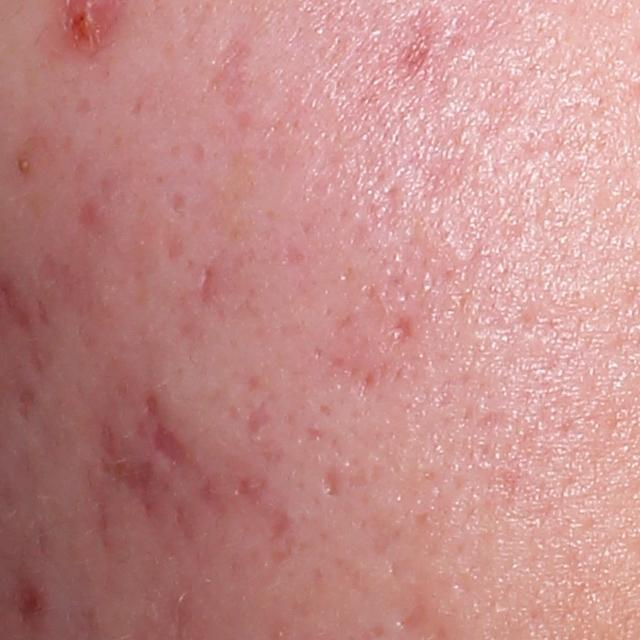atrophic_scar: (101, 430, 158, 512), (209, 34, 255, 109), (153, 429, 196, 469), (226, 470, 270, 508), (236, 407, 276, 445), (384, 318, 422, 347), (194, 270, 223, 305), (315, 466, 345, 499), (395, 609, 430, 636), (140, 388, 165, 423), (15, 385, 39, 418), (164, 226, 185, 260), (167, 190, 186, 215)
